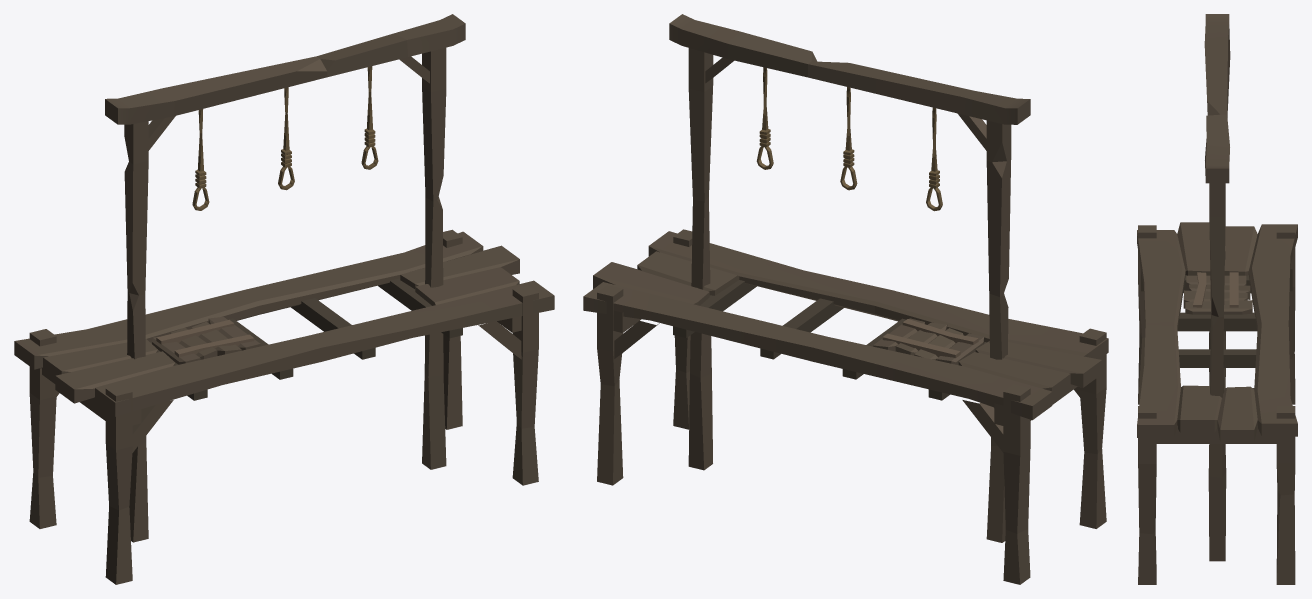
File: SM_Prop_Gallows_Trapdoor_01.glb
3 renders of one model, left to right at view 1: azimuth 30°, elevation 25°; view 2: azimuth 150°, elevation 25°; view 3: azimuth 270°, elevation 25°, orthographic. The views are drawn at different scales.
Visible parts, largest first — view 1: SM_Prop_Gallows_Trapdoor_01; view 2: SM_Prop_Gallows_Trapdoor_01; view 3: SM_Prop_Gallows_Trapdoor_01.
Part boxes in pixels (left/top/right/bottom): SM_Prop_Gallows_Trapdoor_01: left=14, top=14, right=554, bottom=584; SM_Prop_Gallows_Trapdoor_01: left=583, top=14, right=1108, bottom=584; SM_Prop_Gallows_Trapdoor_01: left=1137, top=14, right=1297, bottom=584.
Bounding box in the file's own units: 0.0604 × 0.0543 × 0.0198.
